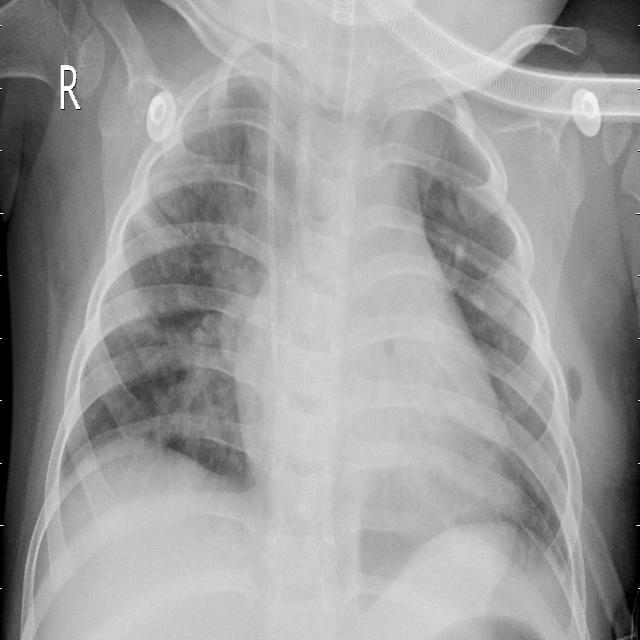high-pneumonia: (392, 54, 465, 192), (202, 24, 278, 150)
low-pneumonia: (175, 170, 271, 452)
